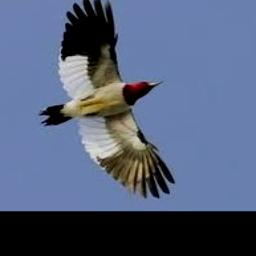Woodpecker: (38, 0, 174, 198)
